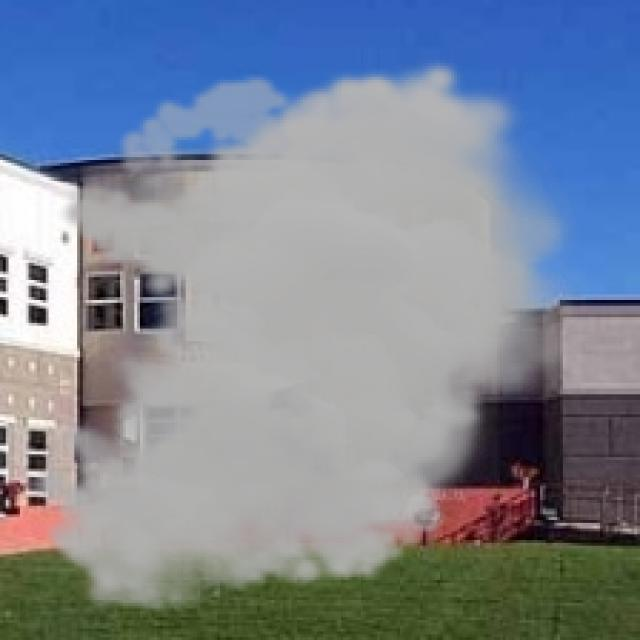Smoke: (26, 57, 592, 614)
